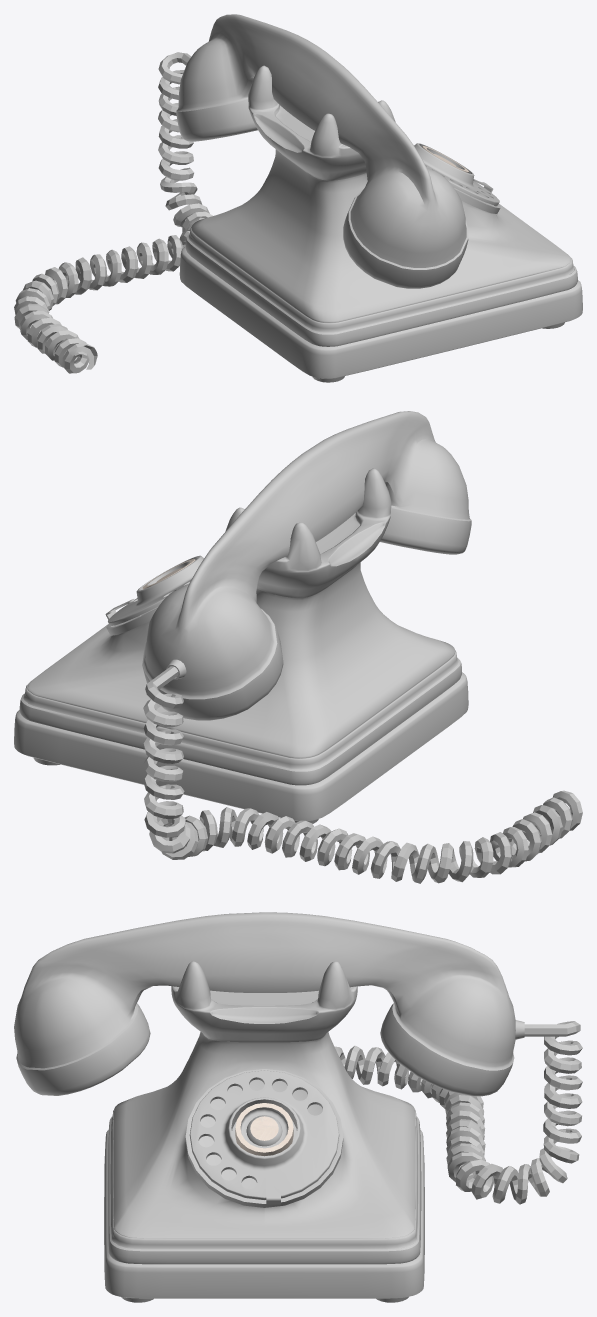
The model's file is Telephone Interactive_02.FBX.
3 renders of one model, top to bottom at view 1: azimuth 30°, elevation 25°; view 2: azimuth 150°, elevation 25°; view 3: azimuth 270°, elevation 25°, orthographic. The views are drawn at different scales.
Parts seen in each view (by area): view 1: Group_002, Group_005, Group_010, Phone_final_top_Plane.014_001, Group_006; view 2: Group_002, Group_005, Group_010, Phone_final_top_Plane.014_001, Group_006; view 3: Group_002, Group_005, Group_010, Group_006, Phone_final_top_Plane.014_001, Group_003, Group_008.
Part boxes in pixels (bbox=[...]): Group_002: bbox=[14, 14, 468, 373]; Group_005: bbox=[188, 149, 574, 332]; Group_010: bbox=[179, 233, 582, 378]; Phone_final_top_Plane.014_001: bbox=[248, 65, 395, 180]; Group_006: bbox=[414, 143, 499, 205]; Group_002: bbox=[142, 411, 582, 883]; Group_005: bbox=[23, 562, 458, 769]; Group_010: bbox=[14, 657, 468, 821]; Phone_final_top_Plane.014_001: bbox=[225, 468, 391, 597]; Group_006: bbox=[108, 555, 203, 626]; Group_002: bbox=[14, 912, 582, 1204]; Group_005: bbox=[110, 1032, 418, 1249]; Group_010: bbox=[104, 1116, 424, 1298]; Group_006: bbox=[189, 1070, 339, 1199]; Phone_final_top_Plane.014_001: bbox=[171, 961, 357, 1042]; Group_003: bbox=[185, 1069, 343, 1207]; Group_008: bbox=[235, 1103, 293, 1156].
Bounding box in the file's own units: 4.43 × 2.57 × 4.47.
